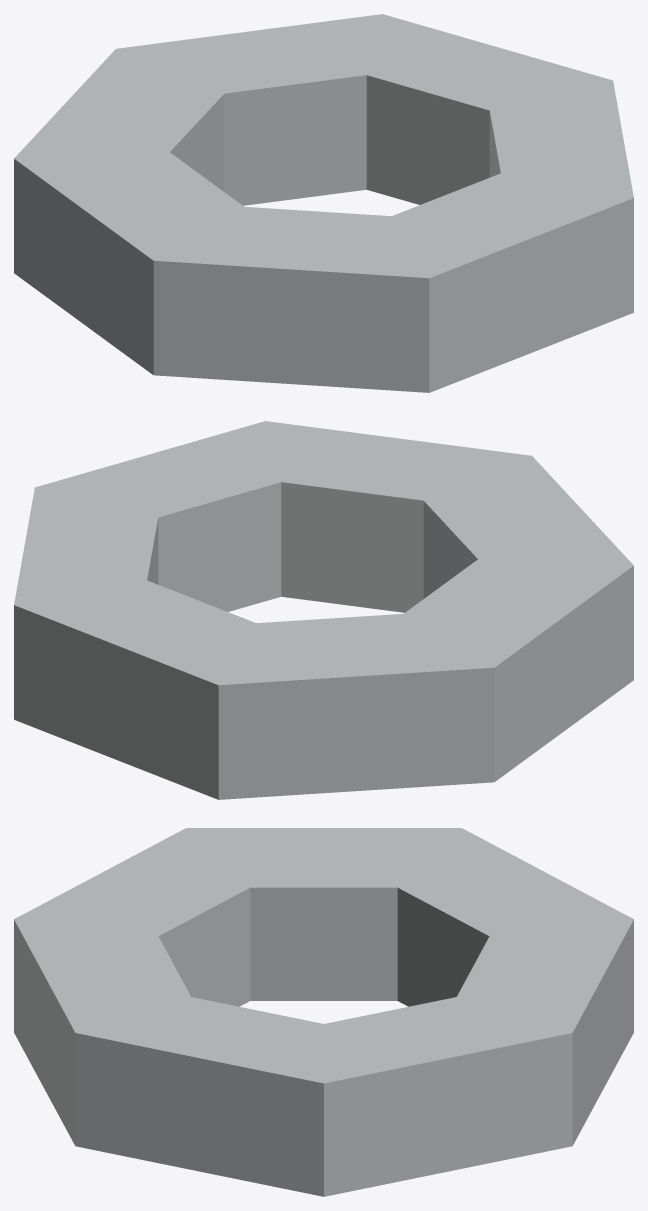
File: Nut.fbx
3 renders of one model, top to bottom at view 1: azimuth 30°, elevation 25°; view 2: azimuth 150°, elevation 25°; view 3: azimuth 270°, elevation 25°, orthographic.
Parts seen in each view (by area): view 1: Nut; view 2: Nut; view 3: Nut.
Boxes of the visible parts, left/top/right/bottom form: Nut: left=14, top=14, right=633, bottom=392; Nut: left=14, top=421, right=633, bottom=799; Nut: left=14, top=828, right=633, bottom=1196.
Size of the model in its own units: 0.5346 by 0.1106 by 0.5483.
Materials: 1 (1 with a texture image).
